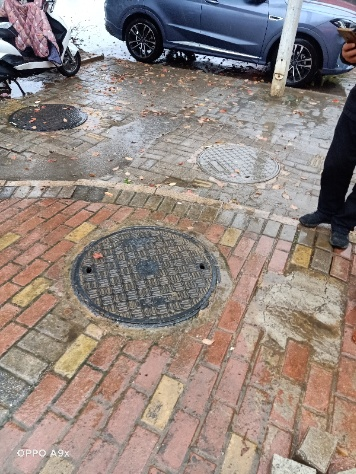well: (70, 224, 219, 327), (5, 102, 86, 131)
